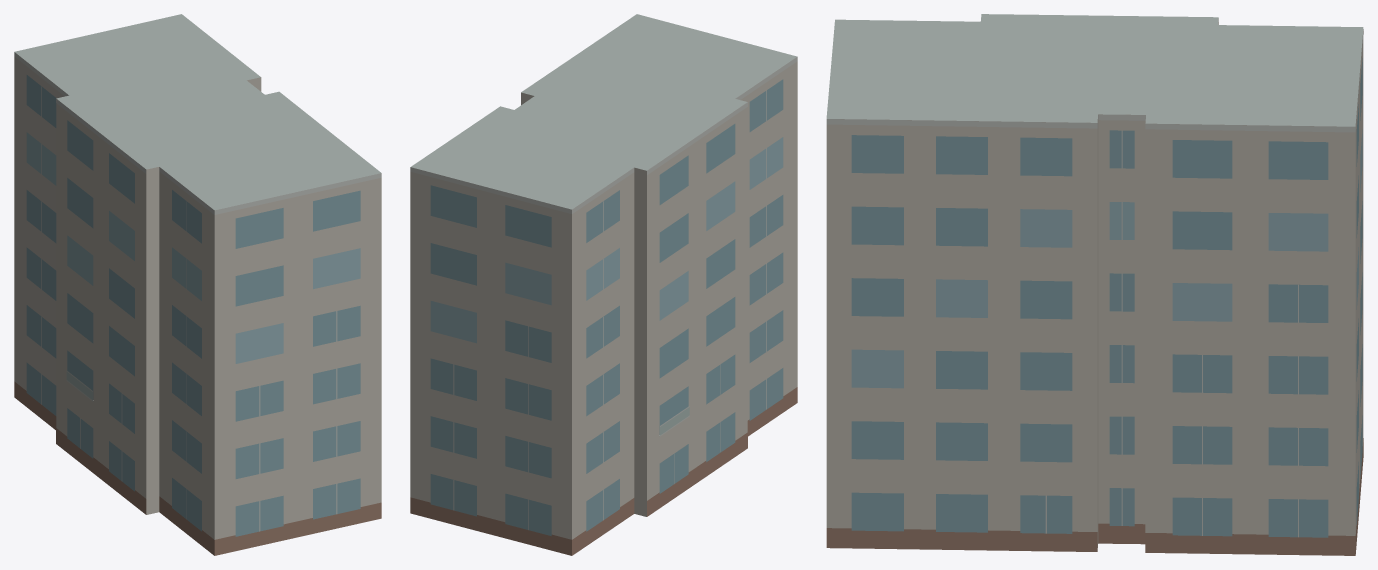
Rendered from survey-upis-32654201.glb.
The picture shows the model from 3 angles, left to right: view 1: azimuth 30°, elevation 25°; view 2: azimuth 150°, elevation 25°; view 3: azimuth 270°, elevation 25°; orthographic projection. The views are drawn at different scales.
Parts seen in each view (by area): view 1: survey-upis-32654201.tmp; view 2: survey-upis-32654201.tmp; view 3: survey-upis-32654201.tmp.
Boxes of the visible parts, x1=… form: survey-upis-32654201.tmp: x1=14, y1=14, x2=381, y2=555; survey-upis-32654201.tmp: x1=410, y1=14, x2=797, y2=555; survey-upis-32654201.tmp: x1=826, y1=14, x2=1363, y2=555.
Bounding box in the file's own units: 10.32 × 18.3 × 20.76.
